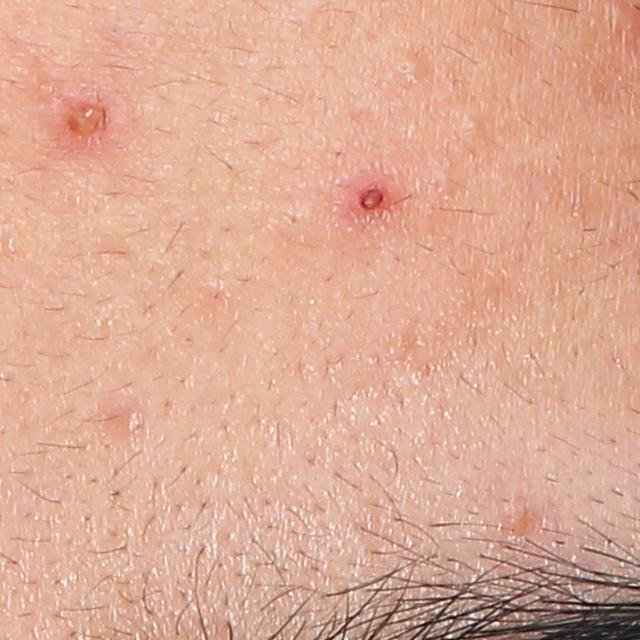comedo: (463, 116, 483, 136)
papule: (349, 174, 402, 216)
pustule: (60, 96, 106, 146)
